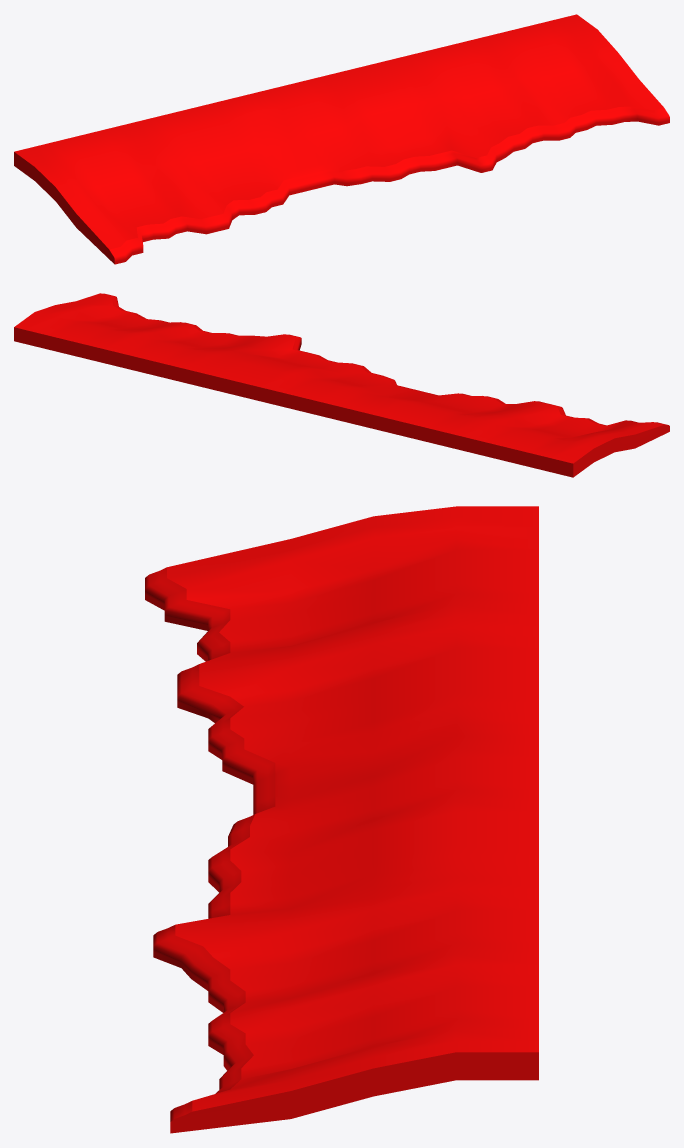
The model's file is BackLava.fbx.
The picture shows the model from 3 angles, top to bottom: view 1: azimuth 30°, elevation 25°; view 2: azimuth 150°, elevation 25°; view 3: azimuth 270°, elevation 25°; orthographic projection. The views are drawn at different scales.
Visible parts, largest first — view 1: Box001; view 2: Box001; view 3: Box001.
Boxes of the visible parts, x1=… form: Box001: x1=14, y1=14, x2=669, y2=264; Box001: x1=14, y1=293, x2=669, y2=477; Box001: x1=145, y1=506, x2=538, y2=1133.
Size of the model in its own units: 122 by 8.47 by 37.3.
